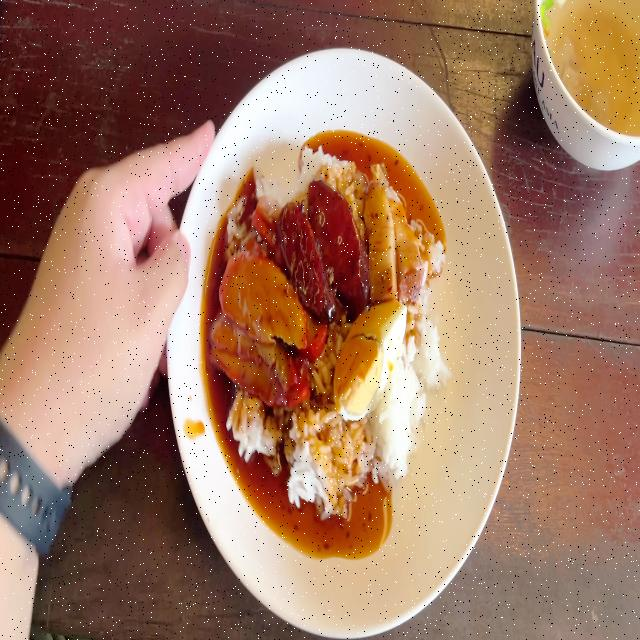boiled_egg: (339, 300, 406, 419)
chainese_sausage: (281, 180, 365, 312), (309, 186, 366, 295), (278, 205, 328, 309)
crispy_pork: (367, 165, 424, 301), (377, 157, 423, 301), (366, 182, 393, 298)
red_pork: (208, 255, 309, 402), (220, 246, 308, 336), (210, 323, 298, 402)
red_pork_and_crispy_pork: (213, 144, 451, 521)
rice: (232, 402, 370, 510), (381, 368, 423, 473), (412, 310, 448, 390)
